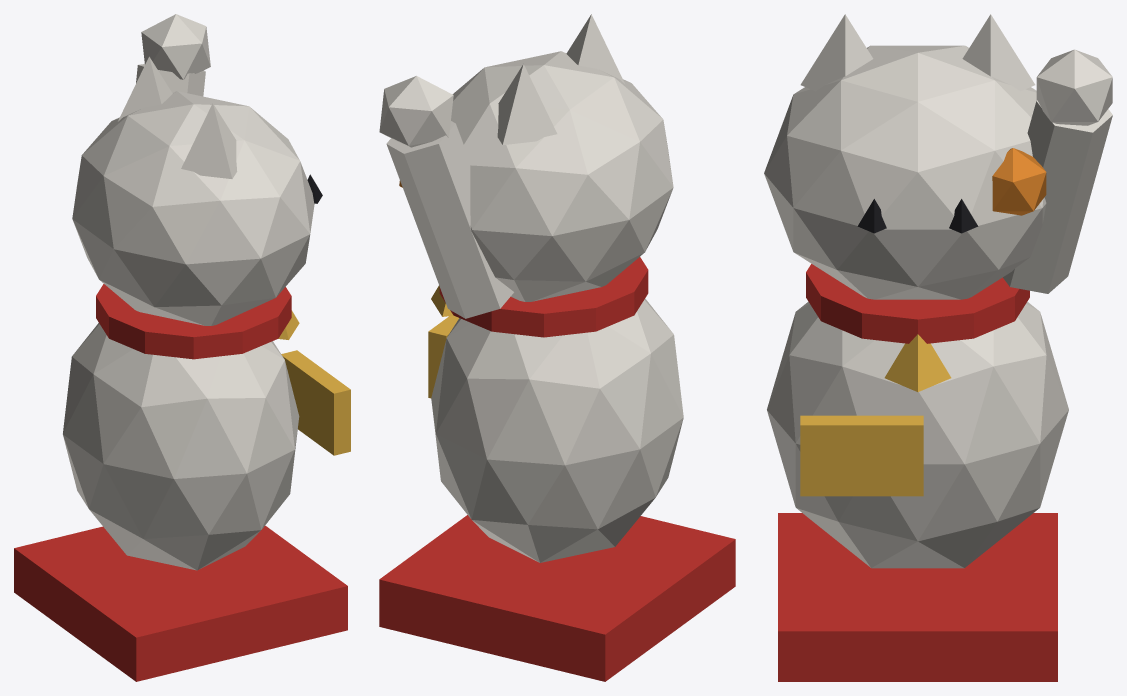
The model's file is maneki_neko.glb.
The picture shows the model from 3 angles, left to right: view 1: azimuth 30°, elevation 25°; view 2: azimuth 150°, elevation 25°; view 3: azimuth 270°, elevation 25°; orthographic projection. The views are drawn at different scales.
Parts seen in each view (by area): view 1: Katt, Tass; view 2: Katt, Tass; view 3: Katt, Tass.
Part boxes in pixels (x1,y1,x2,y2): Katt: [14, 56, 350, 681]; Tass: [136, 14, 210, 96]; Katt: [379, 14, 735, 681]; Tass: [379, 76, 513, 318]; Katt: [764, 14, 1068, 681]; Tass: [1003, 49, 1112, 293].
Bounding box in the file's own units: 0.54 × 1.2 × 0.6234.
